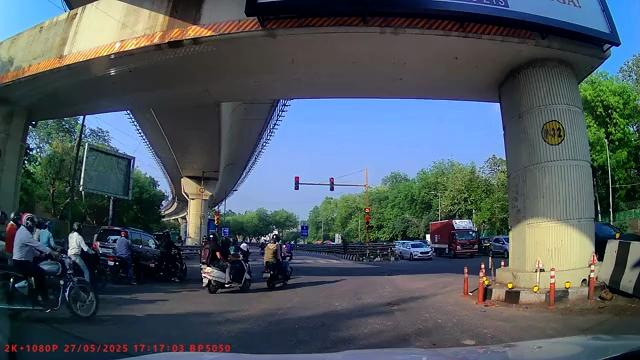motorcycle_with_helmet: (4, 212, 62, 311), (105, 229, 138, 286), (261, 230, 292, 290)
passenger_with_helmet: (199, 231, 252, 294)
